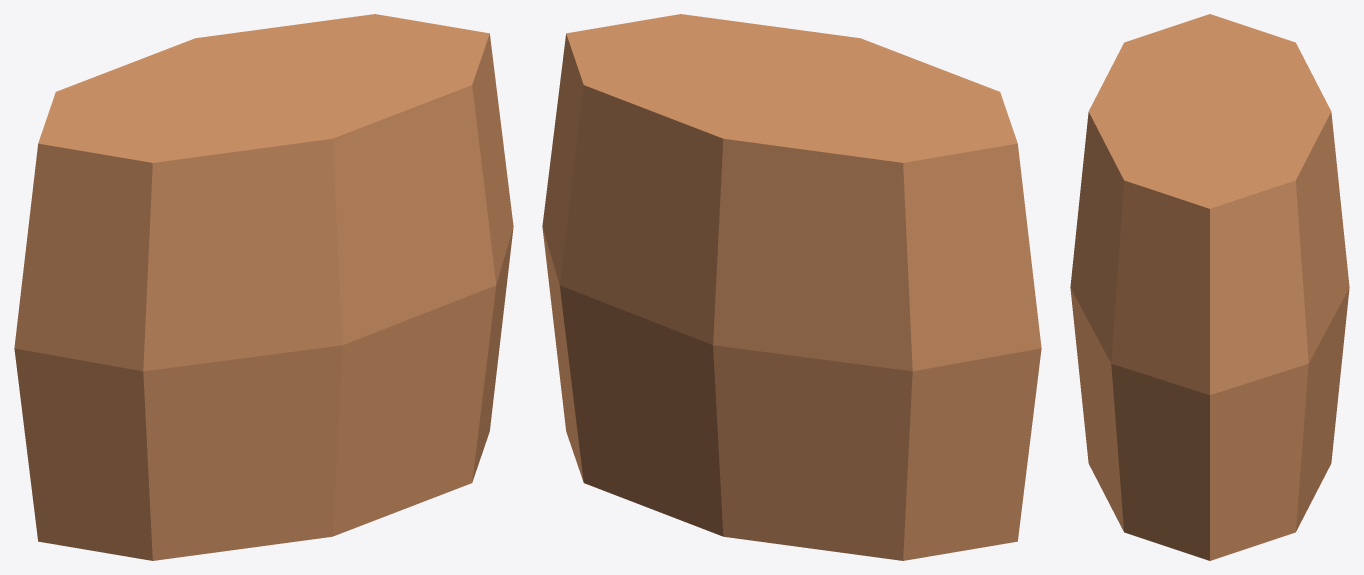
File: wk_soft_tissue_waist_v01.glb
3 views of the same model, side by side, from view 1: azimuth 30°, elevation 25°; view 2: azimuth 150°, elevation 25°; view 3: azimuth 270°, elevation 25° (orthographic). The views are drawn at different scales.
Parts seen in each view (by area): view 1: GEO_SoftTissueWaist; view 2: GEO_SoftTissueWaist; view 3: GEO_SoftTissueWaist.
Part boxes in pixels (<box>): GEO_SoftTissueWaist: <box>14,14,513,560</box>; GEO_SoftTissueWaist: <box>542,14,1041,560</box>; GEO_SoftTissueWaist: <box>1070,14,1349,560</box>.
Size of the model in its own units: 0.42 by 0.32 by 0.23.
